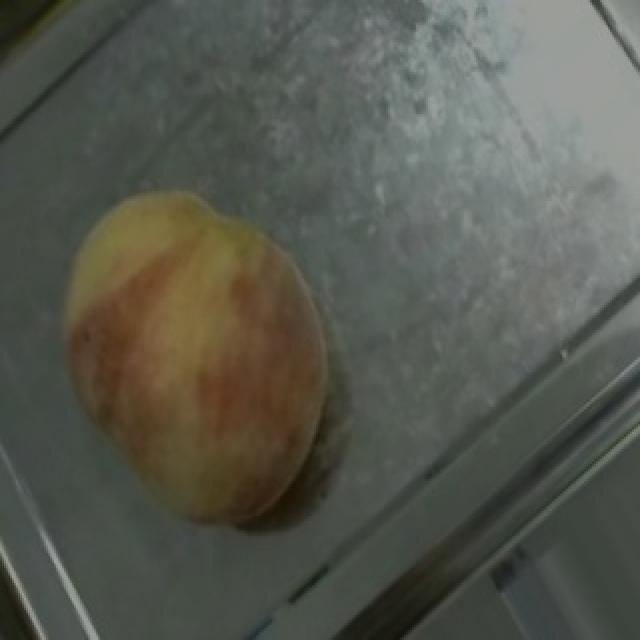Fruit: (18, 144, 366, 541)
